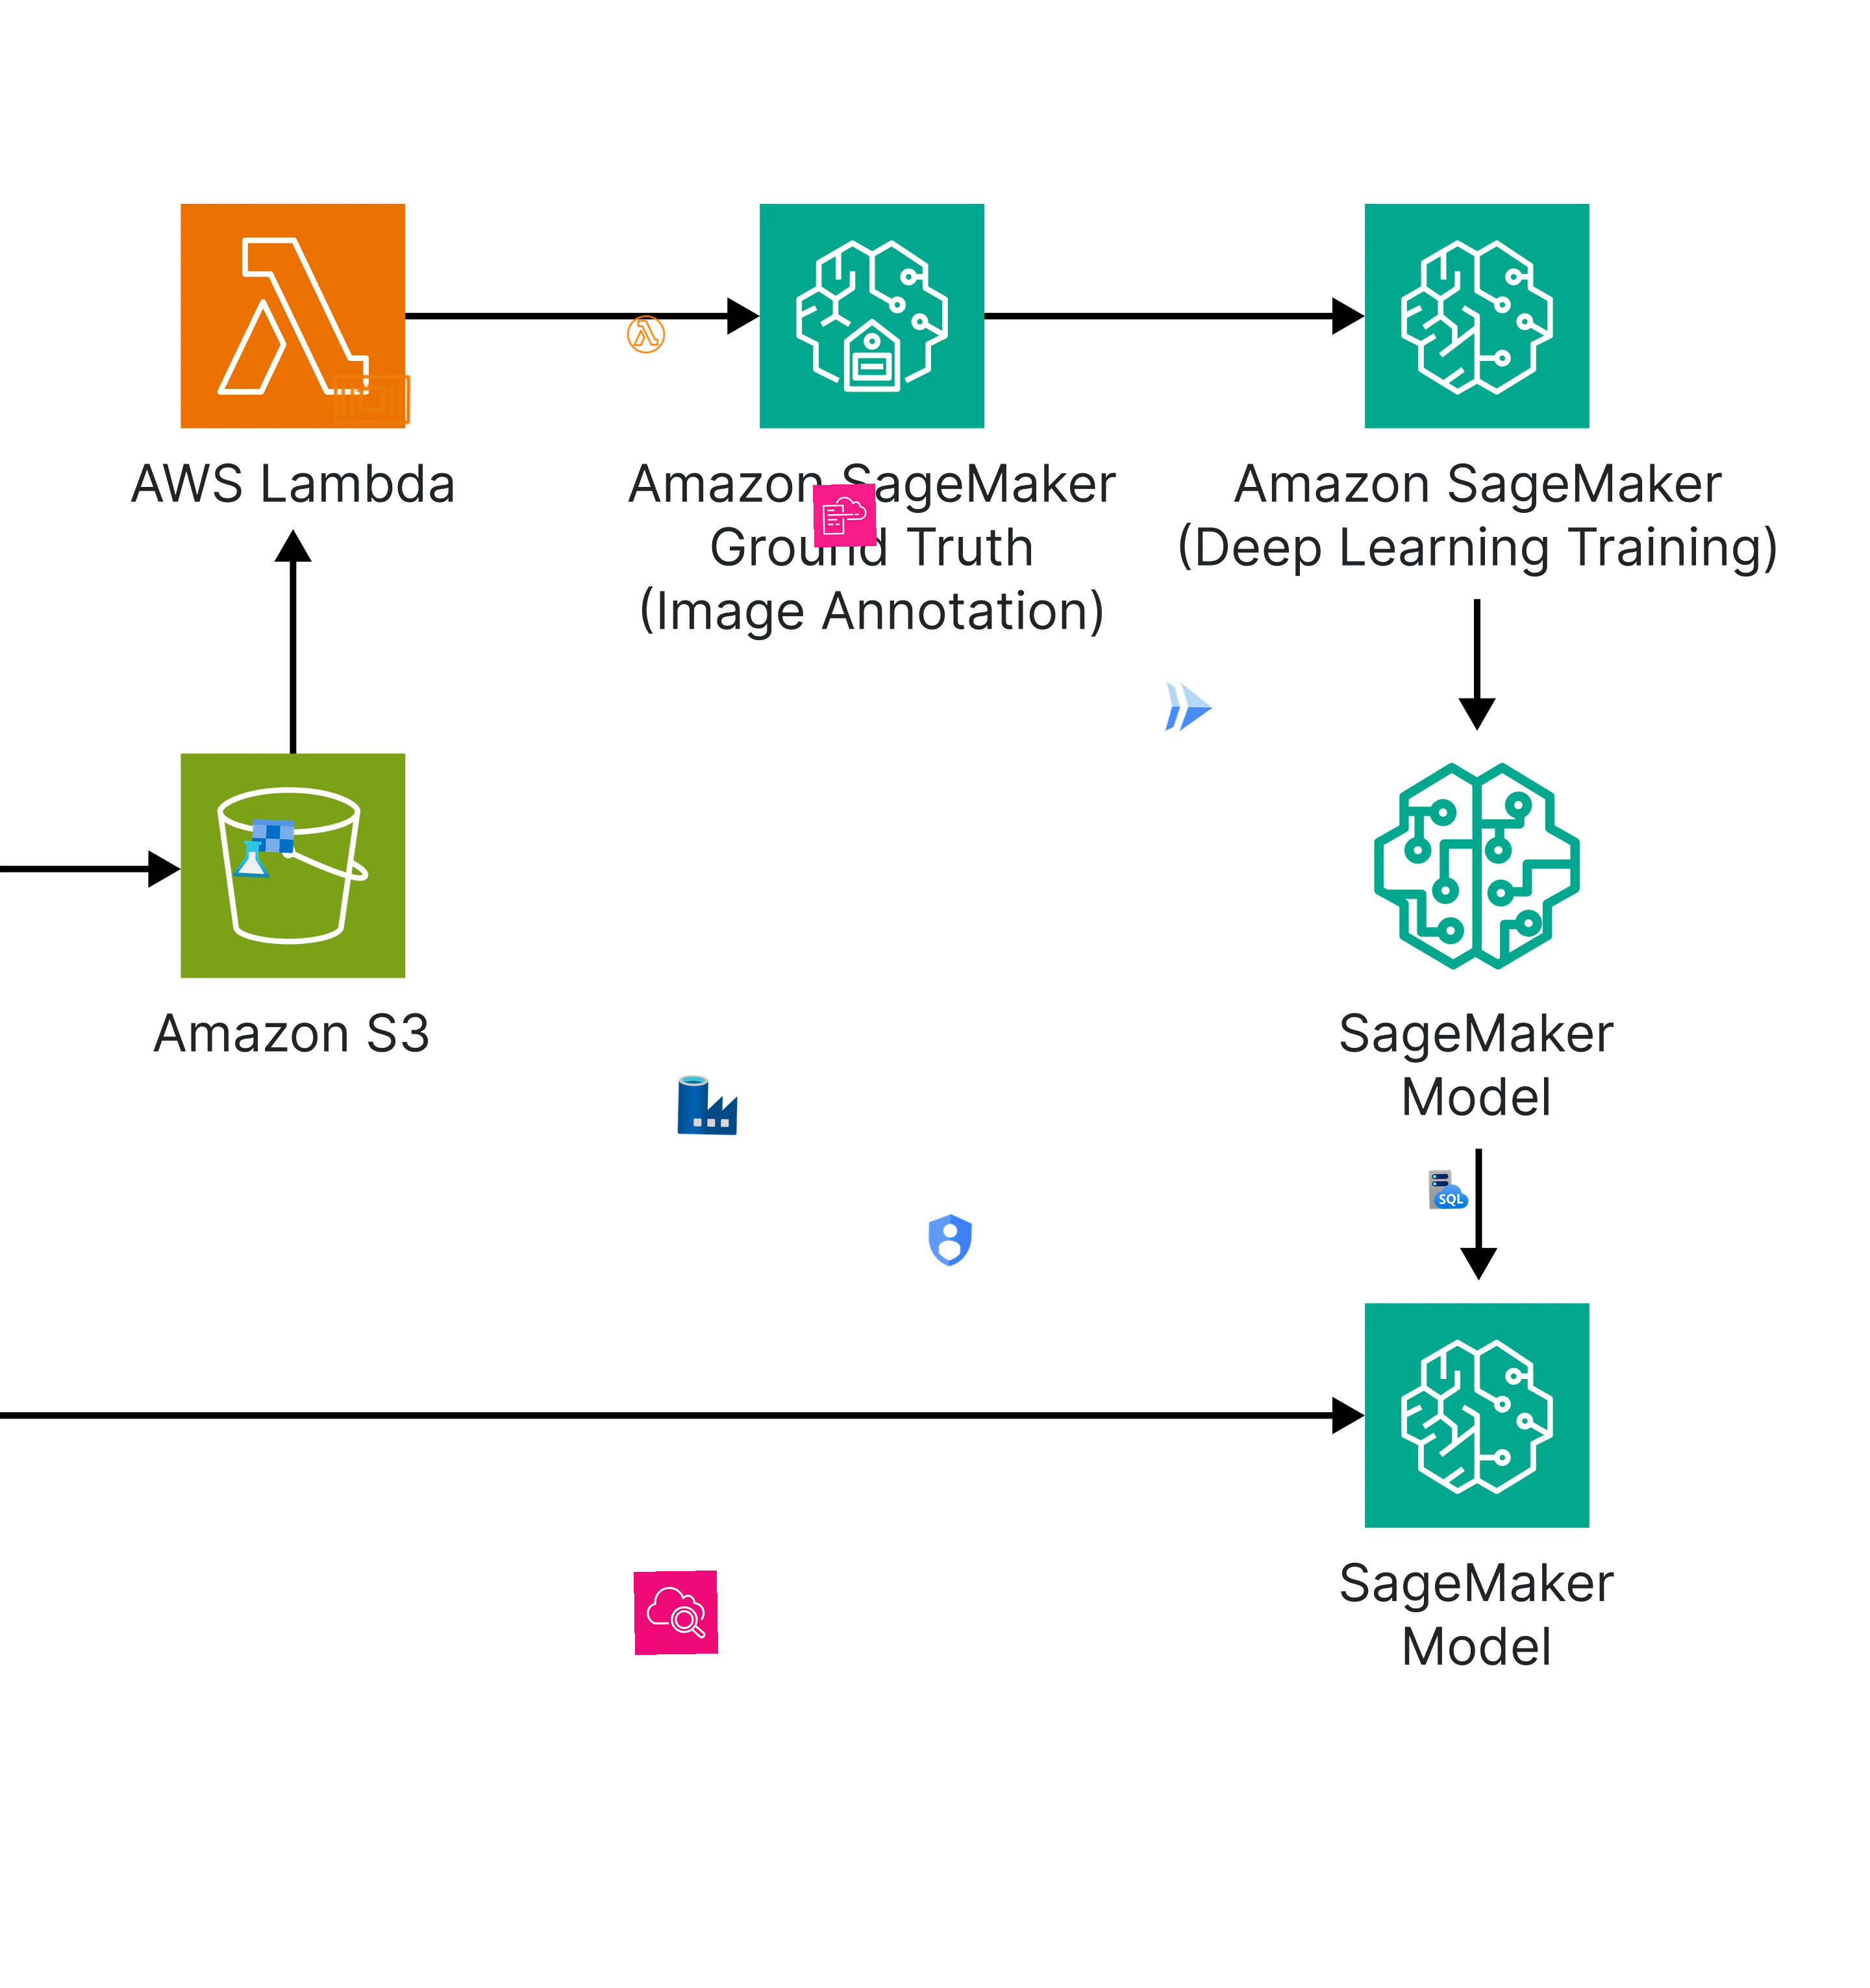aws_amazon_cloudwatch: (633, 1570, 719, 1656)
aws_cloudformation: (812, 483, 877, 548)
aws_elastic_container_service_container_2: (330, 357, 415, 441)
aws_lambda_lambda_function: (624, 313, 668, 355)
azure_data_factories: (675, 1072, 740, 1137)
azure_machine_learning_studio_workspaces: (230, 816, 297, 882)
azure_sql_managed_instance: (1427, 1167, 1469, 1211)
gcp_cloud_run: (1156, 675, 1221, 740)
gcp_identity_and_access_management: (917, 1208, 982, 1273)
